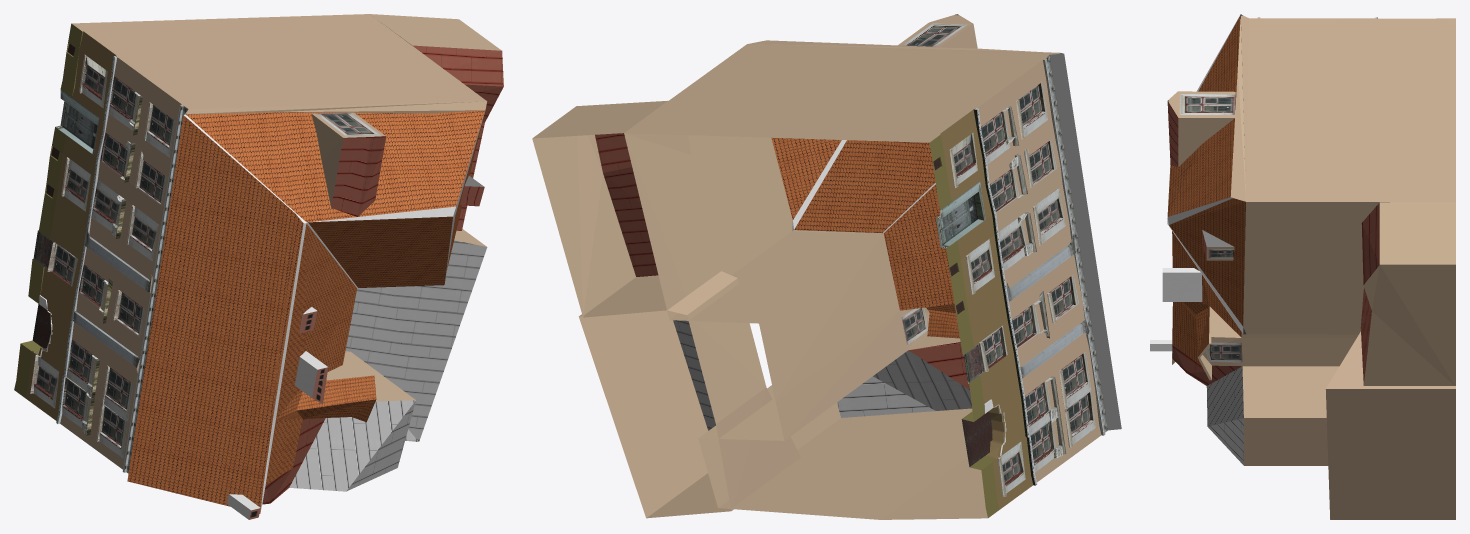
The model's file is Pikk_66-origo.obj.
The picture shows the model from 3 angles, left to right: view 1: azimuth 30°, elevation 25°; view 2: azimuth 150°, elevation 25°; view 3: azimuth 270°, elevation 25°; orthographic projection. The views are drawn at different scales.
Parts seen in each view (by area): view 1: polySurface8; view 2: polySurface8; view 3: polySurface8.
Part boxes in pixels (bbox=[...]): polySurface8: bbox=[14, 14, 503, 519]; polySurface8: bbox=[532, 14, 1121, 519]; polySurface8: bbox=[1150, 14, 1455, 519].
Bounding box in the file's own units: 26.25 × 24 × 17.37.
